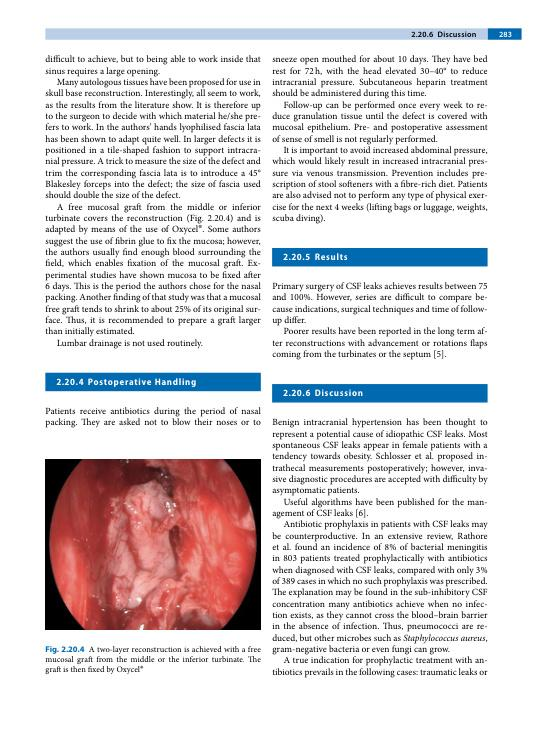caption: (44, 644, 261, 675)
header: (410, 30, 478, 39)
image: (44, 458, 262, 631)
sub-section-heading: (87, 377, 198, 388), (314, 388, 363, 398), (314, 252, 349, 263)
text: (43, 51, 262, 351), (270, 415, 489, 679), (271, 54, 489, 224), (271, 280, 488, 361), (44, 404, 262, 430)
